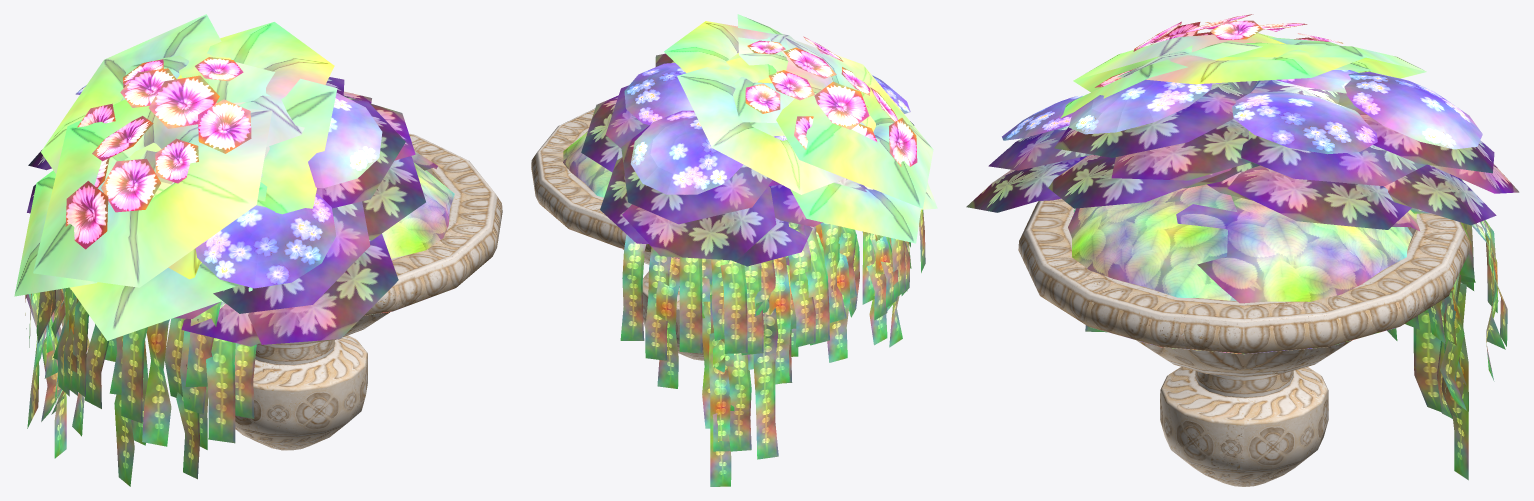
Rendered from smallbowl01_SM.fbx.
3 renders of one model, left to right at view 1: azimuth 30°, elevation 25°; view 2: azimuth 150°, elevation 25°; view 3: azimuth 270°, elevation 25°, orthographic. The views are drawn at different scales.
Parts seen in each view (by area): view 1: smallbowl01_SM_LOD0; view 2: smallbowl01_SM_LOD0; view 3: smallbowl01_SM_LOD0.
Boxes of the visible parts, x1=… form: smallbowl01_SM_LOD0: x1=14, y1=14, x2=502, y2=486; smallbowl01_SM_LOD0: x1=531, y1=14, x2=937, y2=486; smallbowl01_SM_LOD0: x1=966, y1=14, x2=1519, y2=486.
Bounding box in the file's own units: 188 × 190 × 179.
Materials: 7 (7 with a texture image).
